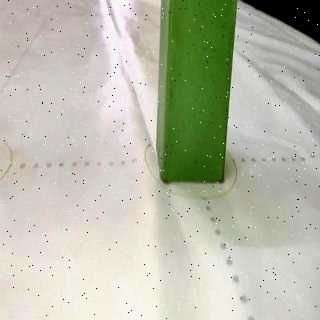greenbox: (156, 1, 240, 184)
